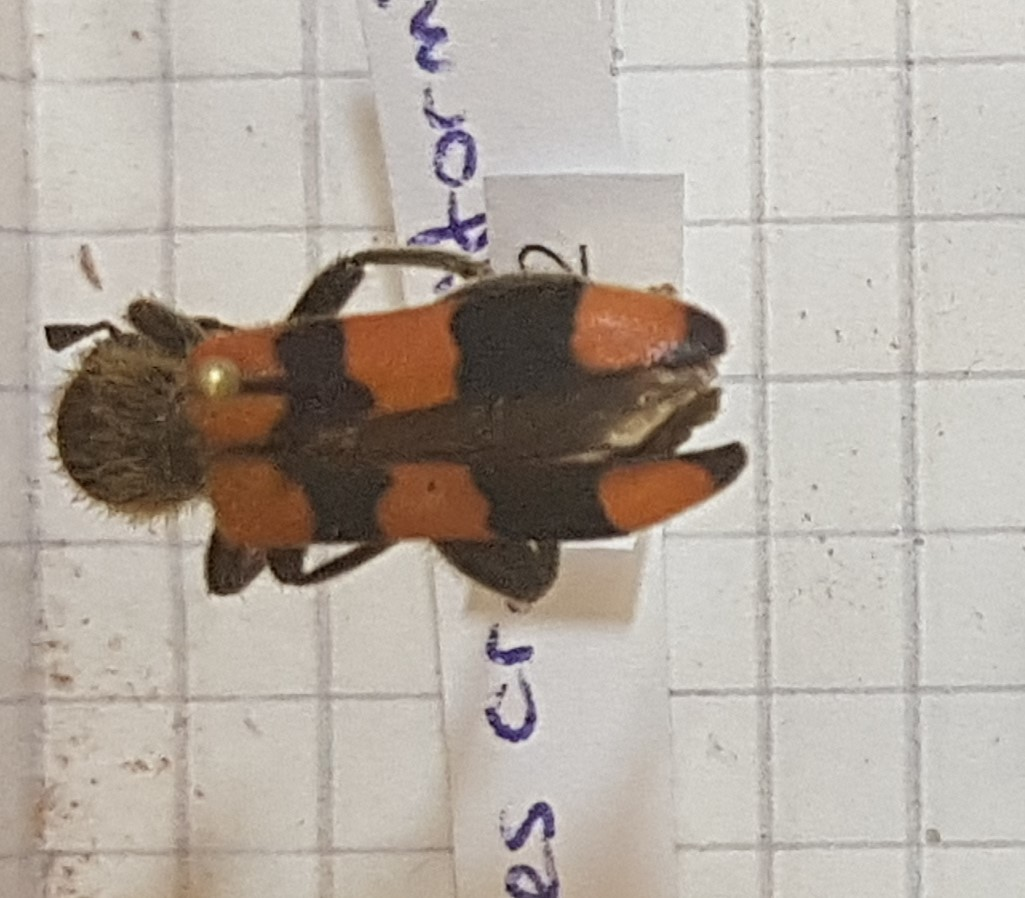trichodes_crabroniformis: (29, 238, 764, 604)
